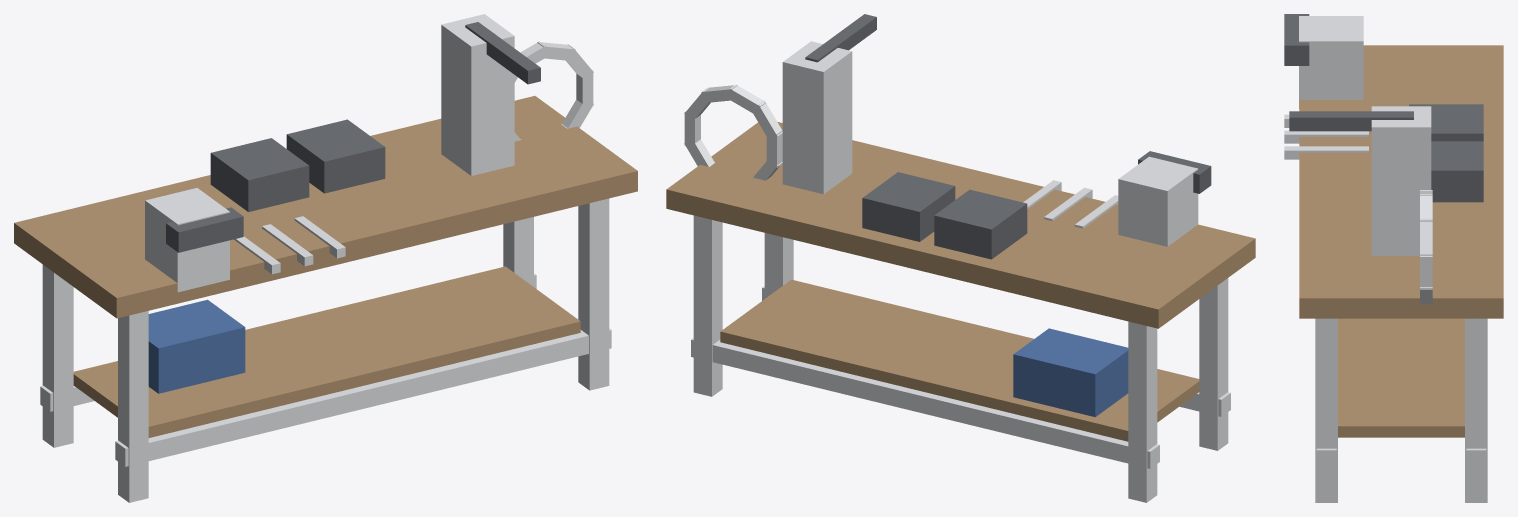
The model's file is marina-and-yacht-club-marina-and-yacht-club-rigging-be-40ccfa86__38318.glb.
The picture shows the model from 3 angles, left to right: view 1: azimuth 30°, elevation 25°; view 2: azimuth 150°, elevation 25°; view 3: azimuth 270°, elevation 25°; orthographic projection. The views are drawn at different scales.
Visible parts, largest first — view 1: marina-and-yacht-club-rigging-bench; view 2: marina-and-yacht-club-rigging-bench; view 3: marina-and-yacht-club-rigging-bench.
Part boxes in pixels (x1,y1,x2,y2): marina-and-yacht-club-rigging-bench: (14,14,637,502); marina-and-yacht-club-rigging-bench: (666,14,1255,502); marina-and-yacht-club-rigging-bench: (1284,14,1503,502).
Size of the model in its own units: 2.48 by 1.53 by 0.88.
